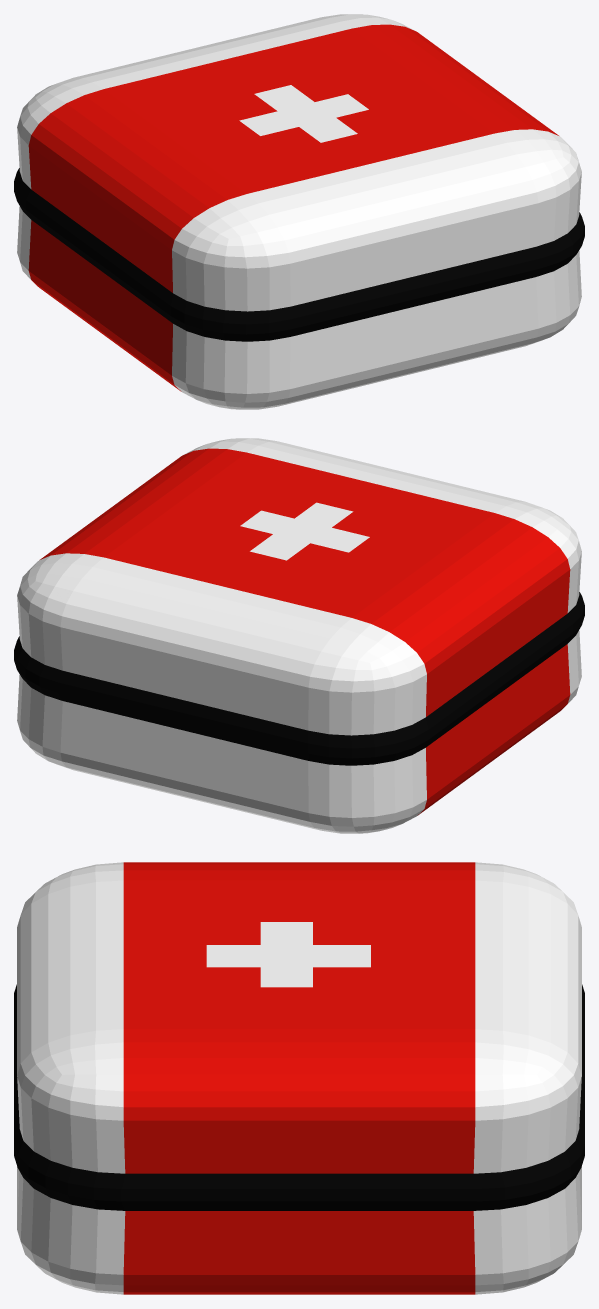
The model's file is Medkit.fbx.
The picture shows the model from 3 angles, top to bottom: view 1: azimuth 30°, elevation 25°; view 2: azimuth 150°, elevation 25°; view 3: azimuth 270°, elevation 25°; orthographic projection. The views are drawn at different scales.
Visible parts, largest first — view 1: Cube; view 2: Cube; view 3: Cube.
Boxes of the visible parts, box(x1,y1,x2,y2) form: Cube: box(14, 14, 584, 409); Cube: box(14, 438, 584, 833); Cube: box(14, 862, 584, 1294).
Size of the model in its own units: 464 by 222 by 464.
